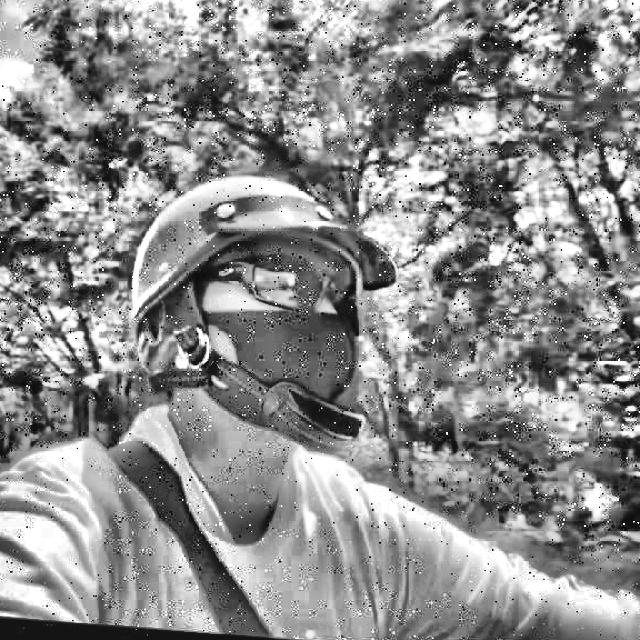Helmet: (101, 158, 419, 472)
